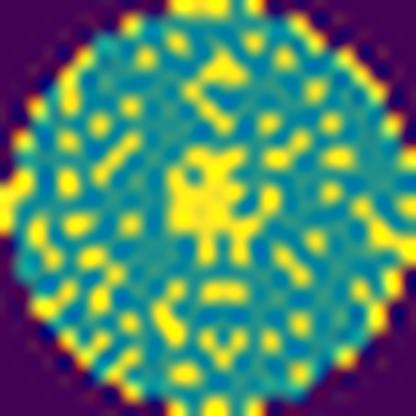Center: (165, 150, 283, 268)
